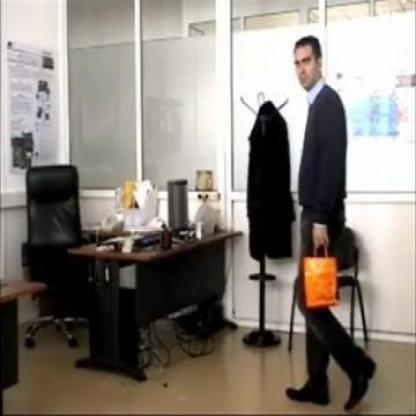other: (299, 247, 338, 308)
